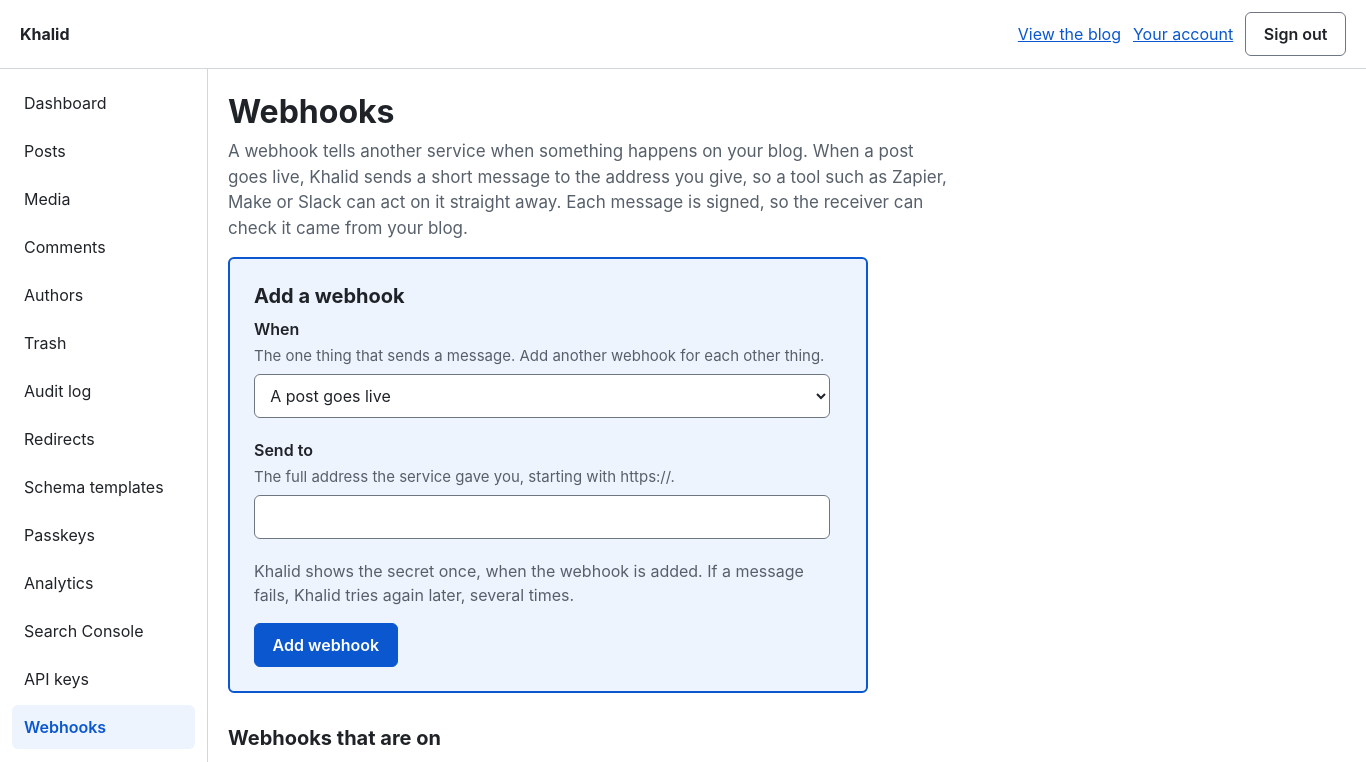
the Webhooks screen › shows the API's words when it refuses an address
In the field labelled "Send to": (542, 517) [254,495,830,539], type "https://me:pw@hooks.example.com/khalid"
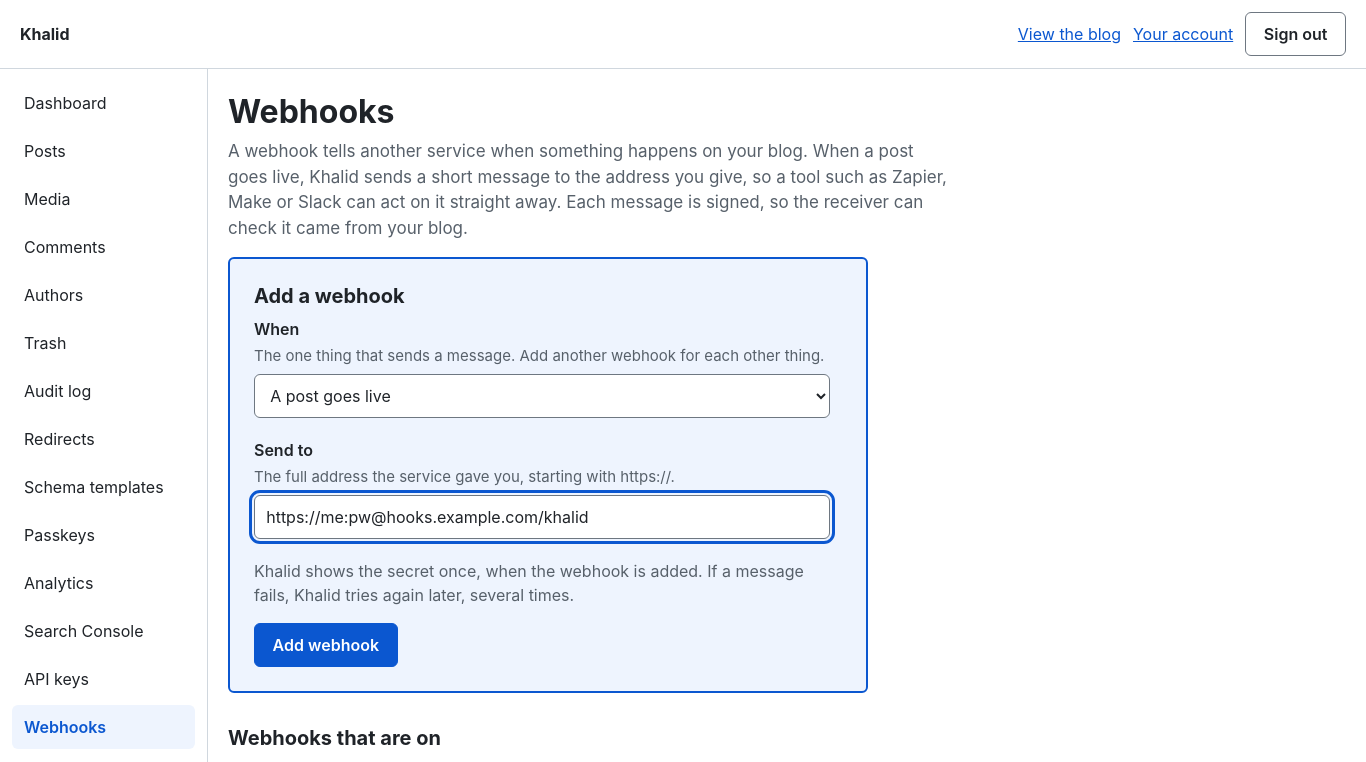
Click the button "Add webhook": (326, 645) [254,623,398,667]
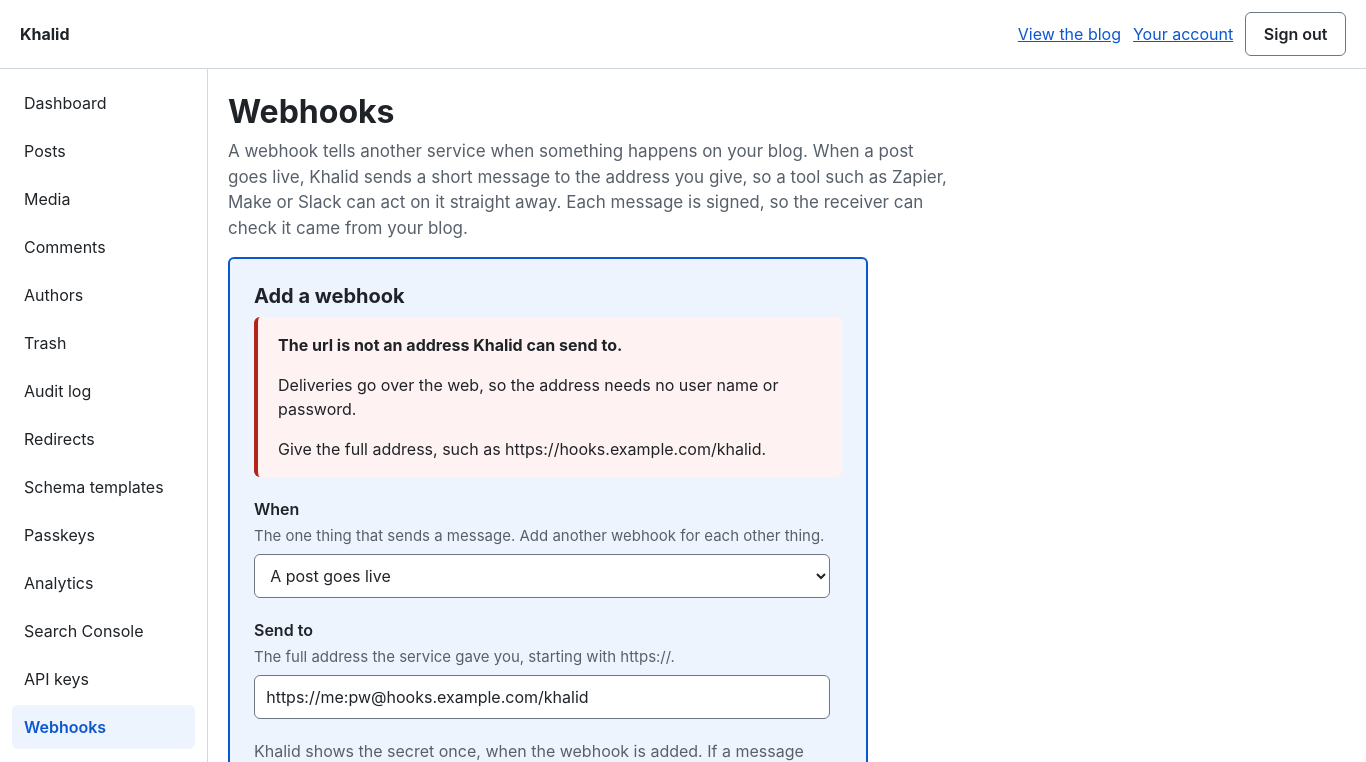
Expected: the message shows "The url is not an address Khalid can send to.", [278,335,622,355]
